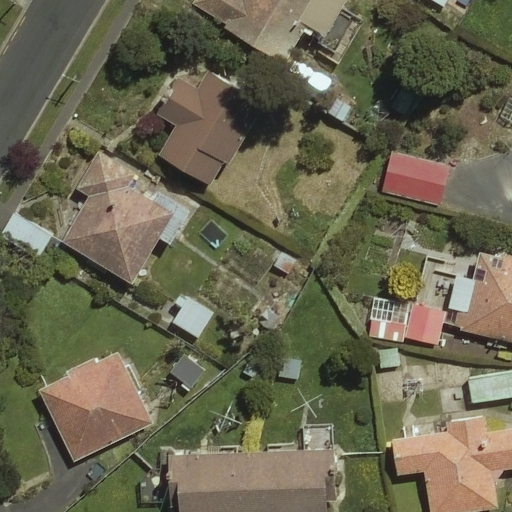DT: (51, 67, 87, 95)
